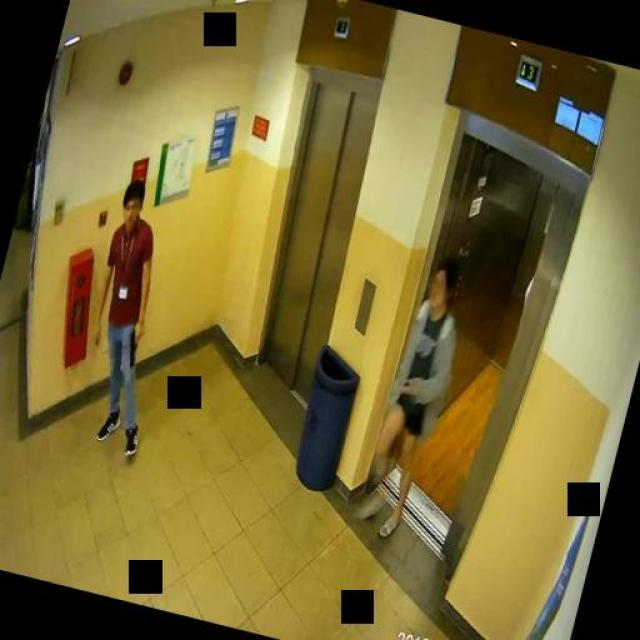gun: (122, 322, 144, 368)
